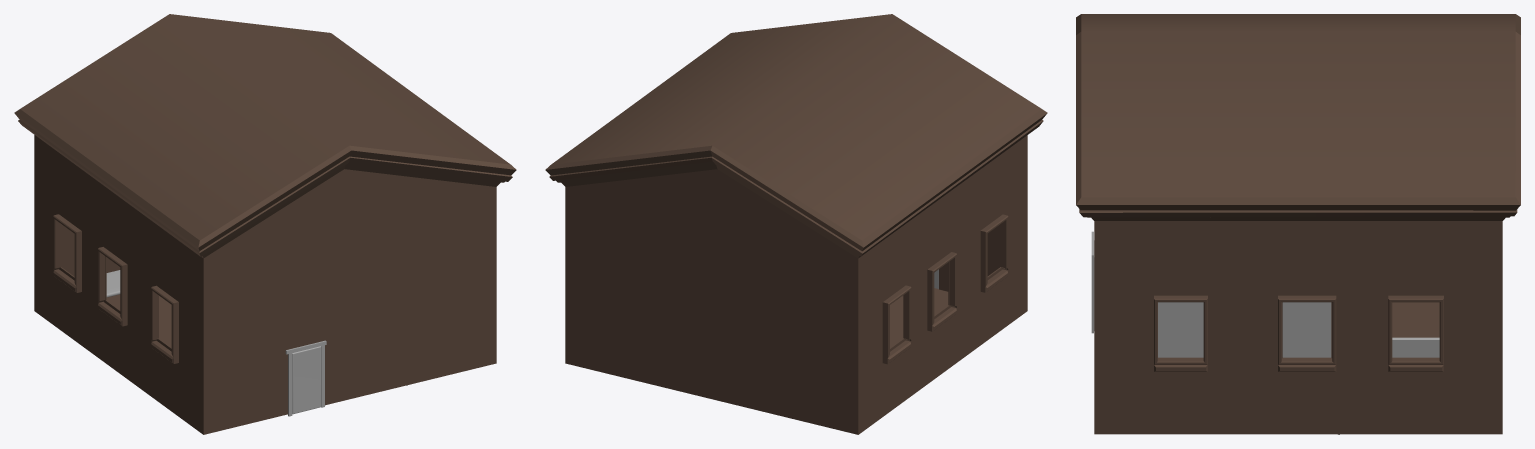
The model's file is wood_cabin_version1.fbx.
3 views of the same model, side by side, from view 1: azimuth 30°, elevation 25°; view 2: azimuth 150°, elevation 25°; view 3: azimuth 270°, elevation 25° (orthographic). The views are drawn at different scales.
Parts seen in each view (by area): view 1: cabin, door; view 2: cabin; view 3: cabin, wall, desk.
Part boxes in pixels (x1,y1,x2,y2): cabin: (14,14,516,434); door: (292,346,321,414); cabin: (545,14,1047,434); cabin: (1076,14,1520,434); wall: (1158,302,1331,357); desk: (1392,337,1439,357).
Bounding box in the file's own units: 10.87 × 10.89 × 8.5.
